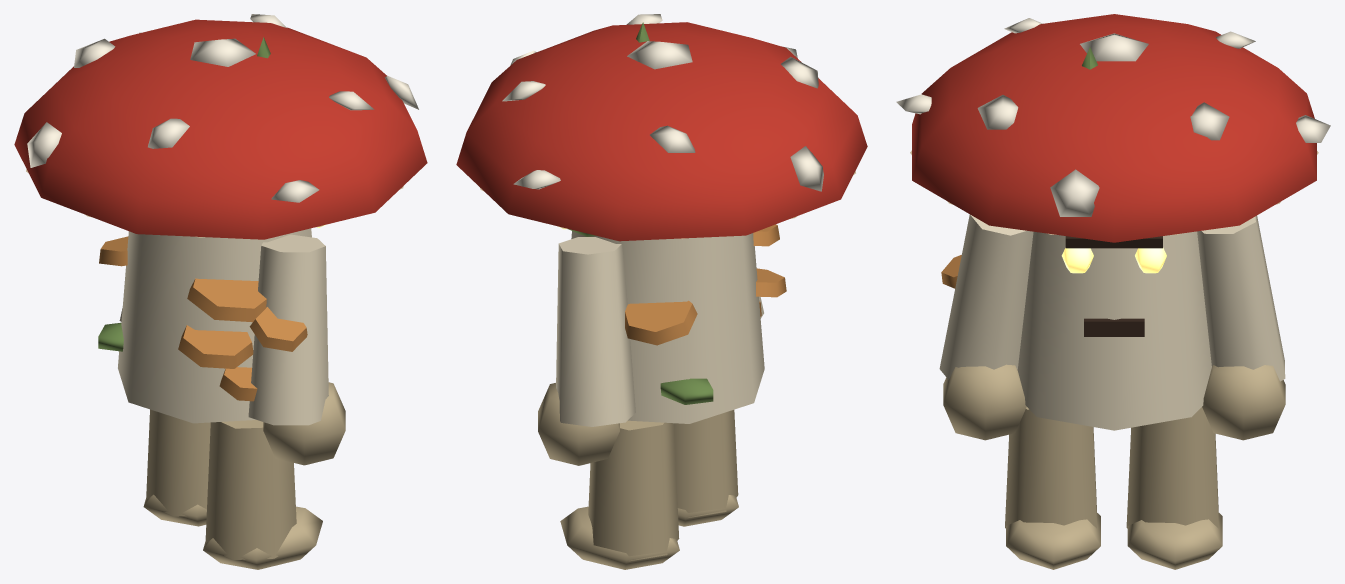
File: enemy_mushroomColossus.glb
The picture shows the model from 3 angles, left to right: view 1: azimuth 30°, elevation 25°; view 2: azimuth 150°, elevation 25°; view 3: azimuth 270°, elevation 25°; orthographic projection. The views are drawn at different scales.
Visible parts, largest first — view 1: cap, trunk, arm_r_mesh, leg_r_mesh, leg_l_mesh, arm_r_fist, bracket_0, leg_r_foot, bracket_1, arm_r_bracket, cap_dot_0, bracket_2 (+8 smaller); view 2: cap, trunk, arm_l_mesh, leg_l_mesh, leg_r_mesh, arm_l_fist, bracket_3, leg_l_foot, cap_dot_0, moss_0, cap_dot_7, cap_dot_3 (+4 smaller); view 3: cap, trunk, arm_r_mesh, arm_l_mesh, leg_l_mesh, leg_r_mesh, arm_r_fist, arm_l_fist, leg_l_foot, leg_r_foot, cap_dot_5, cap_dot_0 (+7 smaller).
Boxes of the visible parts, box(x1,y1,x2,y2) form: cap: box(14, 19, 427, 239); trunk: box(118, 228, 311, 423); arm_r_mesh: box(248, 234, 328, 425); leg_r_mesh: box(205, 420, 296, 559); leg_l_mesh: box(146, 409, 210, 516); arm_r_fist: box(263, 382, 345, 465); bracket_0: box(187, 278, 266, 322); leg_r_foot: box(203, 506, 322, 569); bracket_1: box(178, 325, 253, 368); arm_r_bracket: box(249, 307, 307, 351); cap_dot_0: box(190, 38, 255, 66); bracket_2: box(219, 367, 257, 401); cap: box(456, 22, 867, 241); trunk: box(571, 231, 764, 423); arm_l_mesh: box(556, 237, 635, 426); leg_l_mesh: box(588, 420, 679, 561); leg_r_mesh: box(674, 410, 738, 517); arm_l_fist: box(538, 383, 619, 465); bracket_3: box(625, 300, 697, 345); leg_l_foot: box(560, 506, 679, 569); cap_dot_0: box(627, 41, 692, 69); moss_0: box(660, 378, 713, 404); cap_dot_7: box(790, 146, 823, 191); cap_dot_3: box(650, 125, 695, 152); cap: box(912, 14, 1316, 242); trunk: box(1017, 231, 1211, 430); arm_r_mesh: box(939, 214, 1033, 379); arm_l_mesh: box(1197, 215, 1285, 381); leg_l_mesh: box(1126, 407, 1218, 528); leg_r_mesh: box(1005, 407, 1096, 528); arm_r_fist: box(943, 364, 1026, 440); arm_l_fist: box(1202, 365, 1285, 440); leg_l_foot: box(1127, 513, 1222, 569); leg_r_foot: box(1006, 513, 1100, 569); cap_dot_5: box(1050, 169, 1099, 216); cap_dot_0: box(1080, 33, 1148, 61).
Bounding box in the file's own units: 0.35 × 0.47 × 0.3574.
